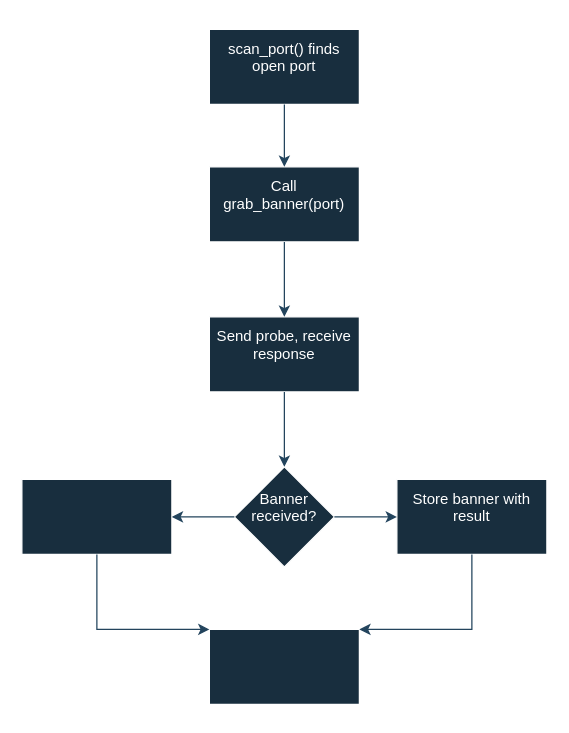
Some shapes in this 569 by 733 pixel diagram are drawn without their labels. The centre of each missing label's shape, as x and y in pixels:
Save to database (with banner column): (283,666)
Store "No banner" with result: (96,516)
